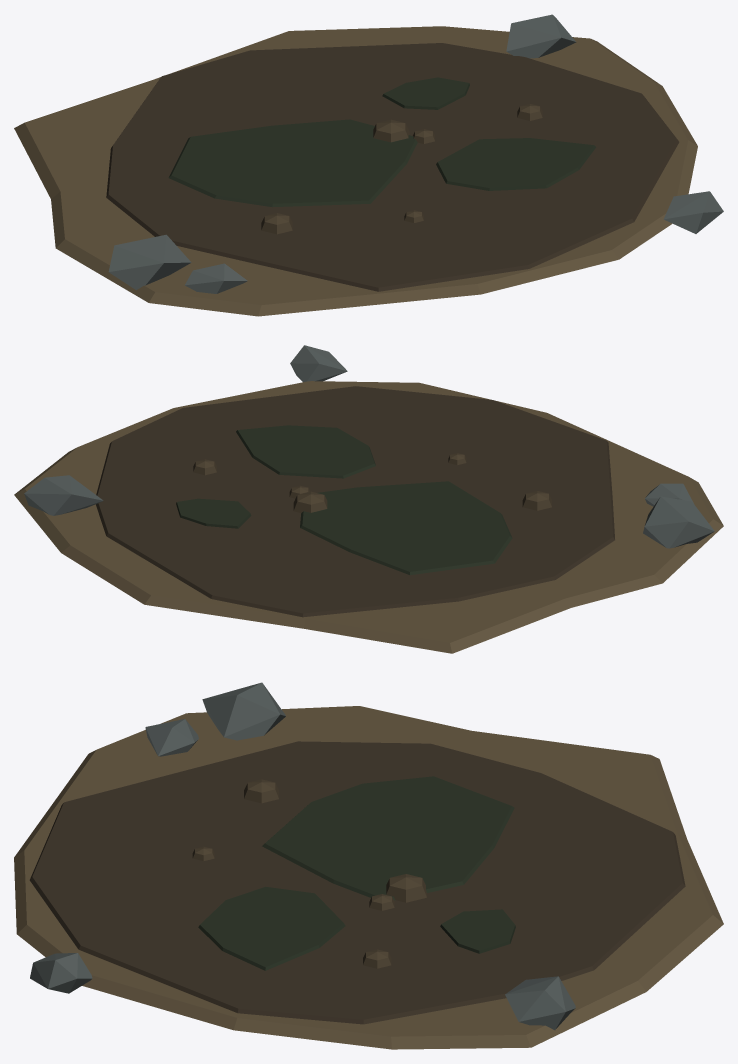
Rendered from Mud_Pool.fbx.
The picture shows the model from 3 angles, top to bottom: view 1: azimuth 30°, elevation 25°; view 2: azimuth 150°, elevation 25°; view 3: azimuth 270°, elevation 25°; orthographic projection. The views are drawn at different scales.
Parts seen in each view (by area): view 1: Mud, Rim, Wet, Stones, Bubbles; view 2: Mud, Rim, Wet, Stones, Bubbles; view 3: Mud, Rim, Wet, Stones, Bubbles.
Boxes of the visible parts, bbox=[...] form: Mud: bbox=[106, 43, 679, 291]; Rim: bbox=[14, 26, 697, 316]; Wet: bbox=[168, 77, 596, 207]; Stones: bbox=[108, 14, 723, 293]; Bubbles: bbox=[261, 104, 542, 234]; Mud: bbox=[96, 386, 614, 617]; Rim: bbox=[14, 381, 723, 653]; Wet: bbox=[176, 425, 512, 575]; Stones: bbox=[24, 345, 714, 548]; Bubbles: bbox=[193, 453, 551, 512]; Mud: bbox=[29, 741, 685, 1024]; Rim: bbox=[14, 706, 723, 1049]; Wet: bbox=[198, 776, 515, 970]; Stones: bbox=[30, 682, 575, 1030]; Bubbles: bbox=[192, 779, 426, 968].
Size of the model in its own units: 8.39 by 0.5107 by 7.37.
